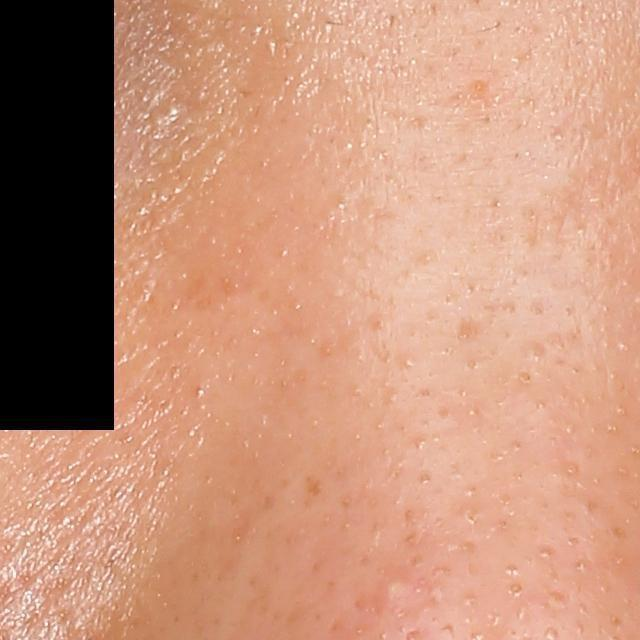comedo: (514, 368, 535, 386)
